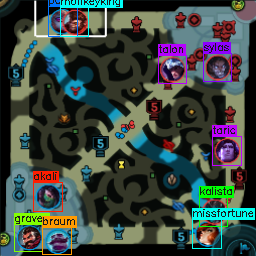akali: (35, 183, 59, 209)
braum: (46, 229, 71, 254)
graves: (16, 226, 41, 249)
kalista: (201, 198, 226, 223)
missfortune: (194, 220, 220, 246)
monkeyking: (63, 8, 87, 35)
poppy: (50, 8, 73, 31)
sylas: (205, 53, 229, 79)
talon: (159, 55, 186, 81)
taric: (214, 137, 239, 163)
